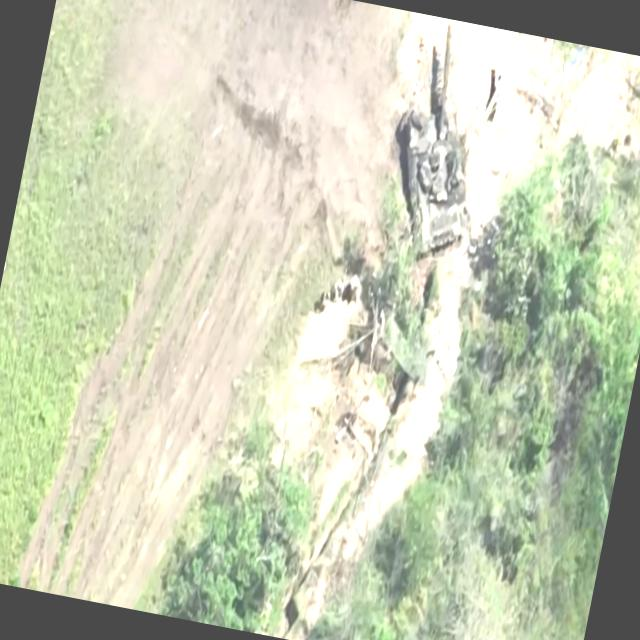MBT: (378, 18, 517, 270)
